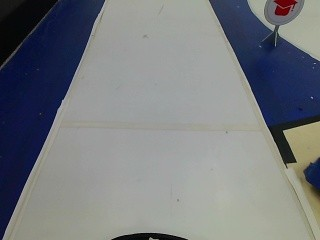school: (266, 0, 303, 25)
